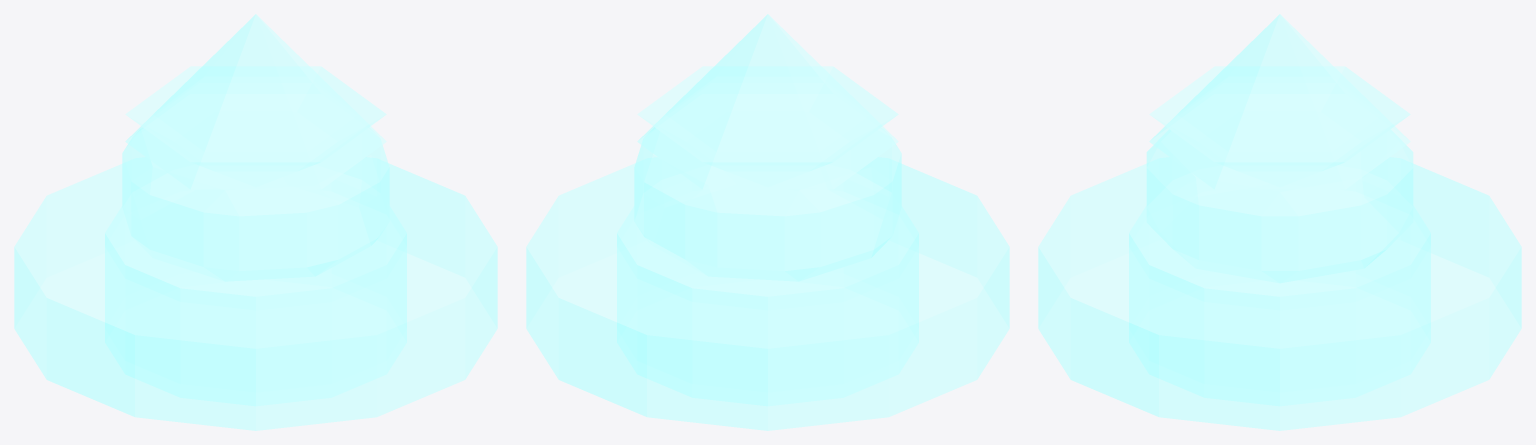
The model's file is GH_Product_RubyRing.fbx.
3 views of the same model, side by side, from view 1: azimuth 30°, elevation 25°; view 2: azimuth 150°, elevation 25°; view 3: azimuth 270°, elevation 25° (orthographic).
Parts seen in each view (by area): view 1: SM_Product_RubyRing; view 2: SM_Product_RubyRing; view 3: SM_Product_RubyRing.
Boxes of the visible parts, x1,y1,x2,y2 form: SM_Product_RubyRing: (14,14,497,430); SM_Product_RubyRing: (526,14,1009,430); SM_Product_RubyRing: (1038,14,1521,430).
Size of the model in its own units: 0.48 by 0.36 by 0.48.
